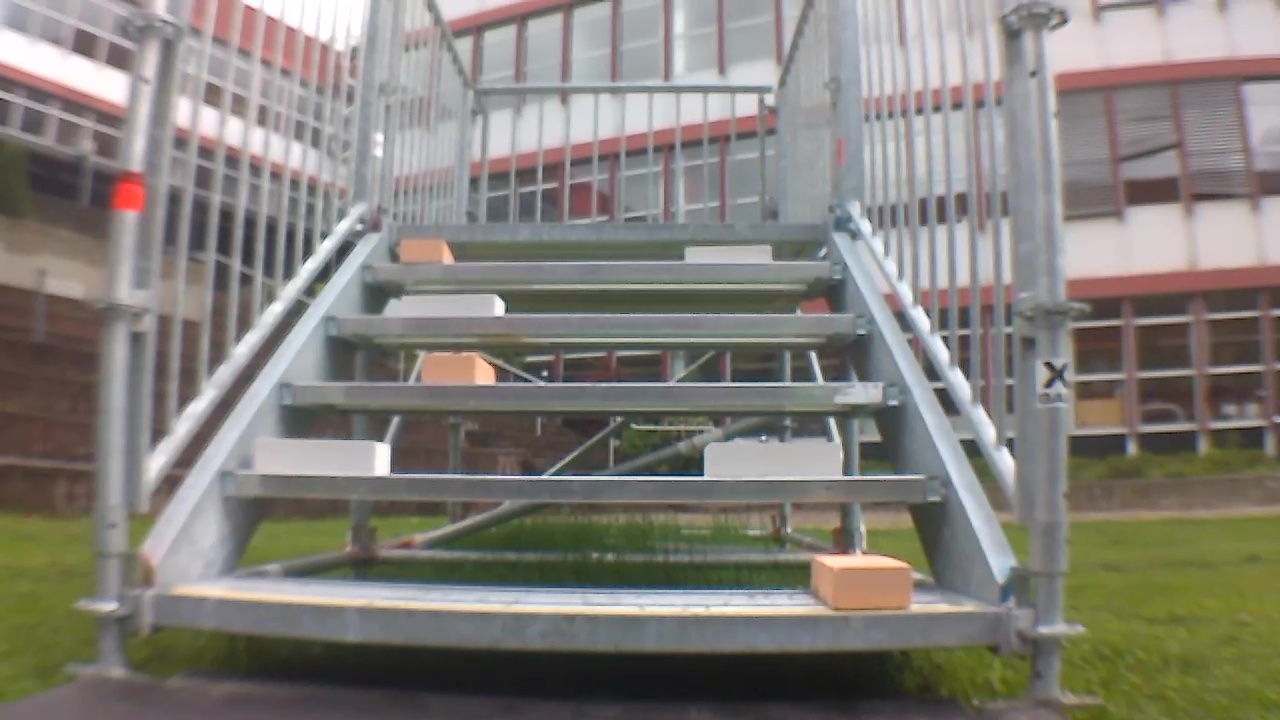brick: (812, 555, 909, 608), (255, 438, 390, 475), (703, 443, 838, 479), (401, 294, 505, 315), (422, 356, 495, 383), (686, 244, 770, 263), (402, 238, 452, 262)
edge: (156, 594, 1007, 651), (221, 472, 949, 503), (281, 382, 902, 409), (326, 314, 869, 335), (364, 261, 847, 282), (394, 222, 824, 243)
stairs: (78, 6, 1088, 708)
steps: (149, 214, 1014, 666)
